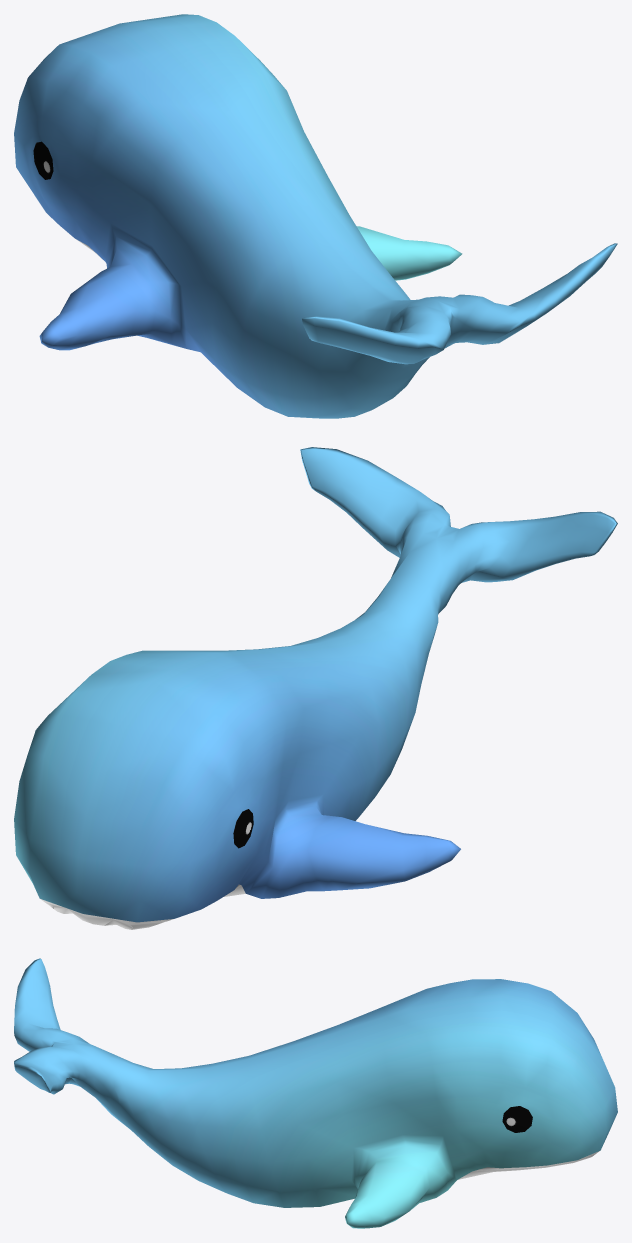
The model's file is low_poly_animated_cartoon_whale.glb.
3 renders of one model, top to bottom at view 1: azimuth 30°, elevation 25°; view 2: azimuth 150°, elevation 25°; view 3: azimuth 270°, elevation 25°, orthographic. The views are drawn at different scales.
Parts seen in each view (by area): view 1: _; view 2: _; view 3: _.
Part boxes in pixels (<box>): _: <box>14,14,617,418</box>; _: <box>14,447,617,929</box>; _: <box>14,958,617,1228</box>.
Bounding box in the file's own units: 51.66 × 32.31 × 86.06.
Materials: 1 (1 with a texture image).
